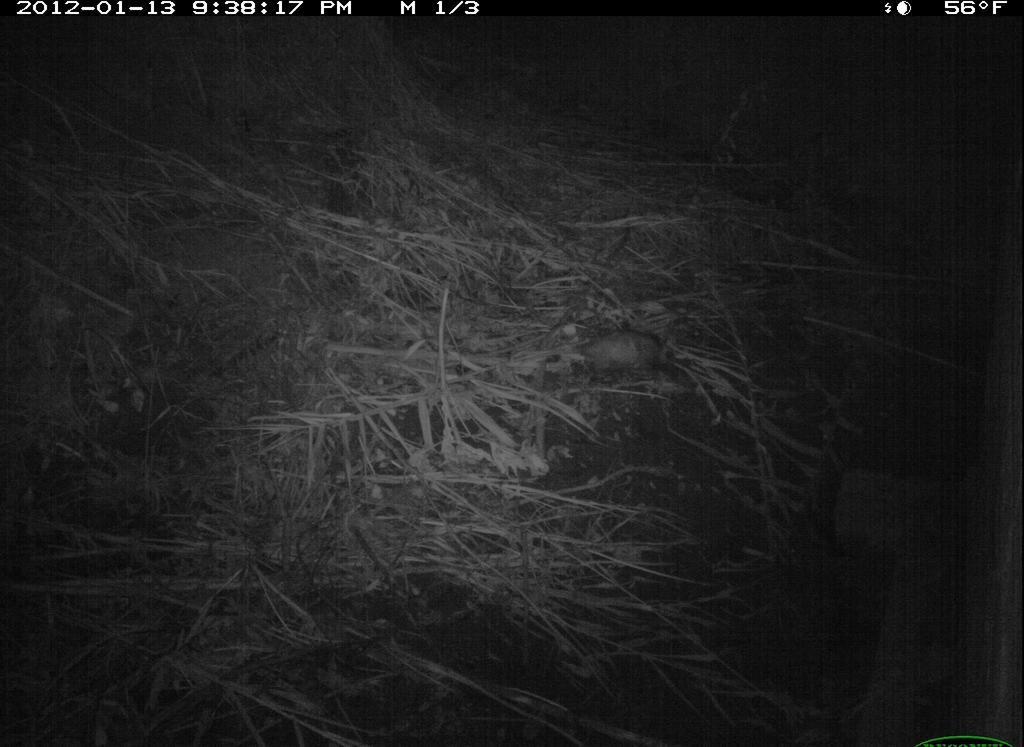opossum: (574, 317, 699, 400)
